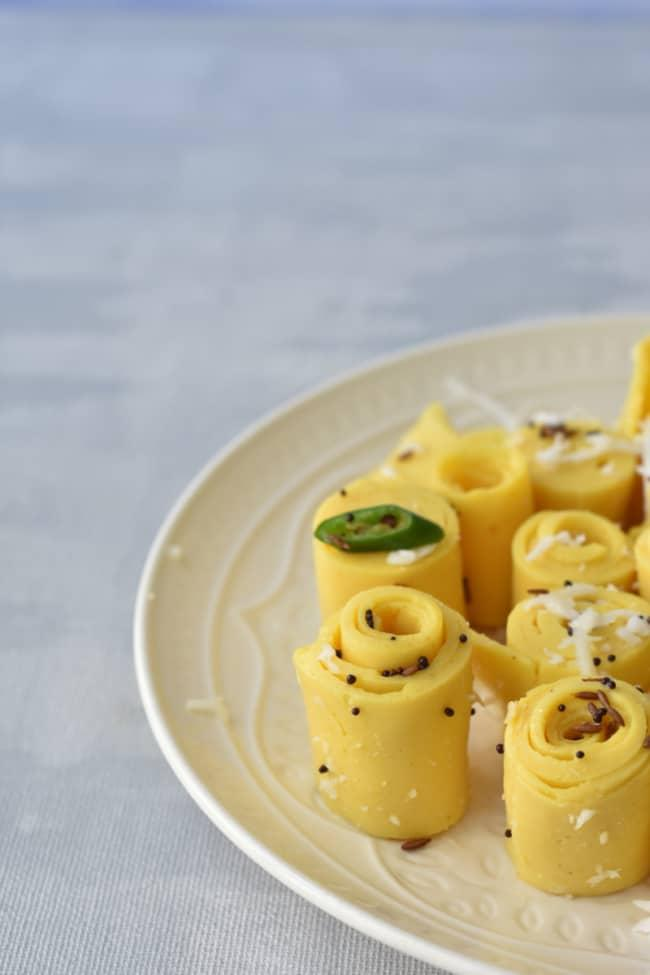khandvi: (302, 405, 650, 870)
